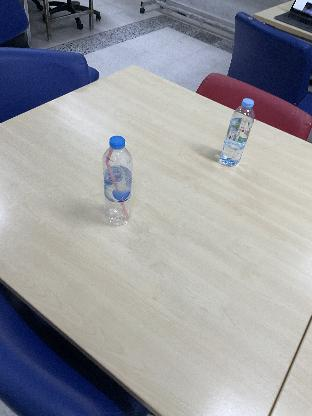Plastic Bottle: (102, 135, 134, 227), (218, 97, 256, 169)
